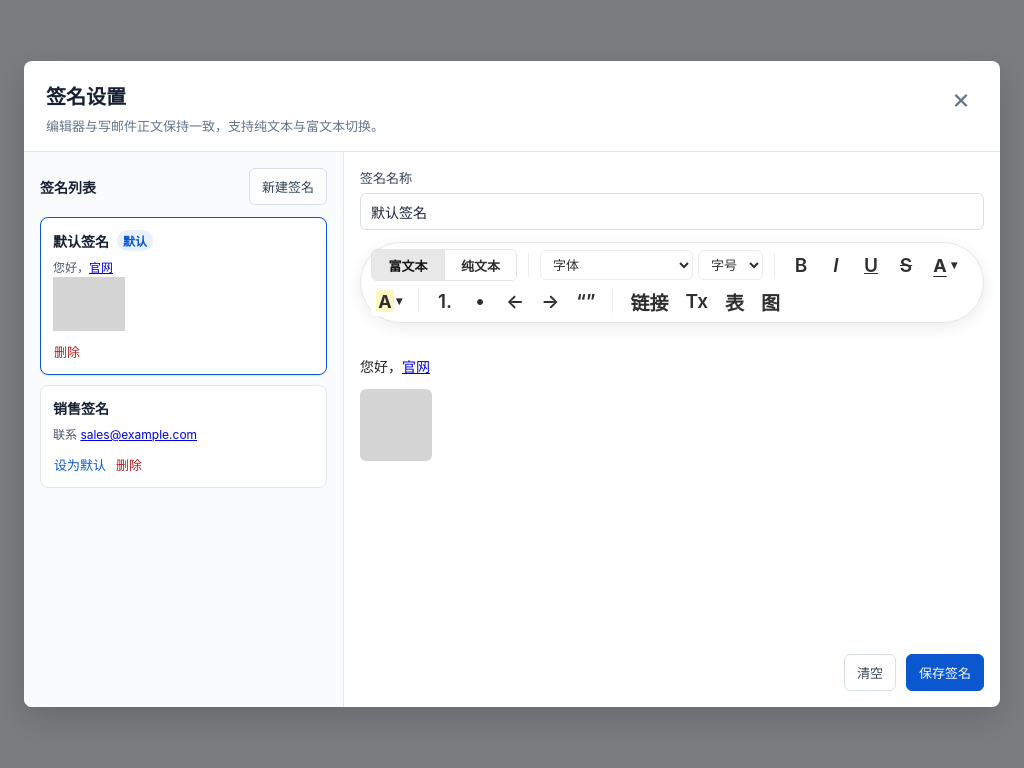
it: SignatureSettings 签名面板 › 可以新建签名并插入链接和图片后保存
Click the button "新建签名" at point(288, 187), box [249,168,327,205]
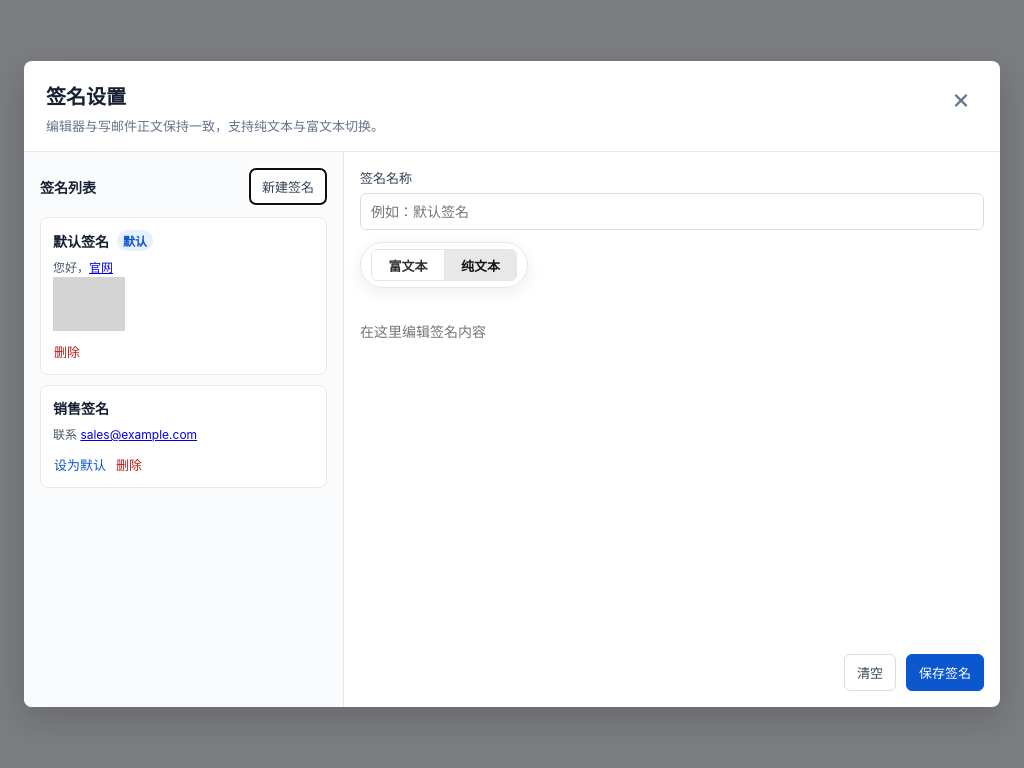
Type "新签名" into the field labelled "签名名称" at point(672, 212), box [360,193,984,230]
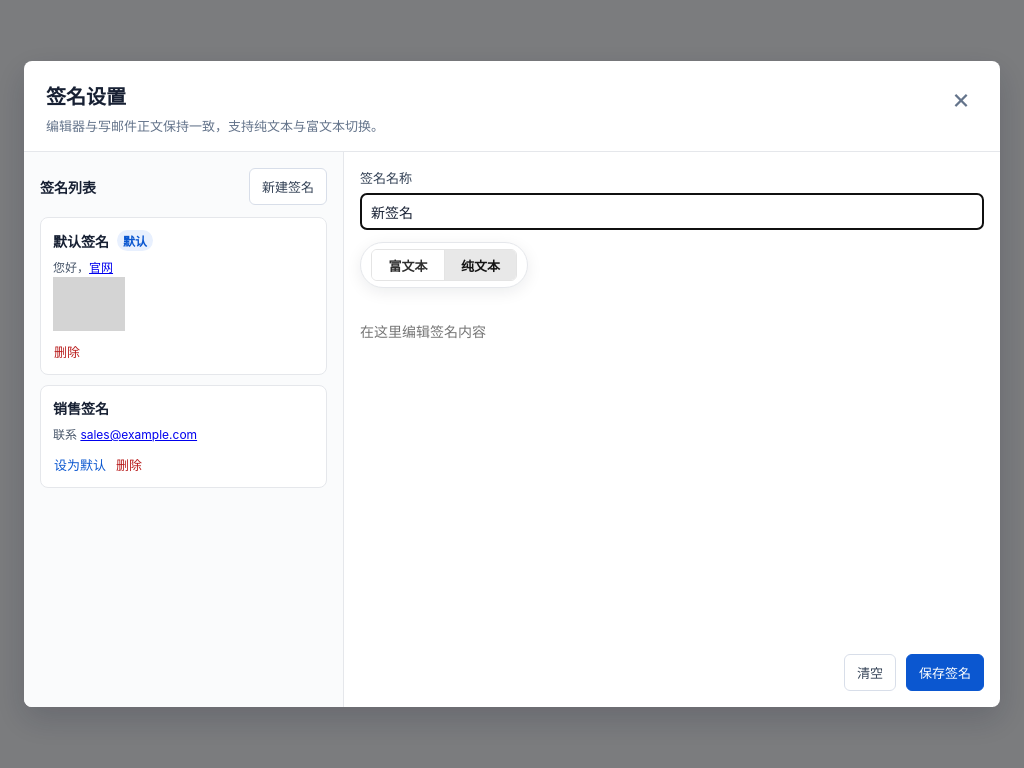
Click the button "富文本" at point(408, 265), box [372,250,444,280]
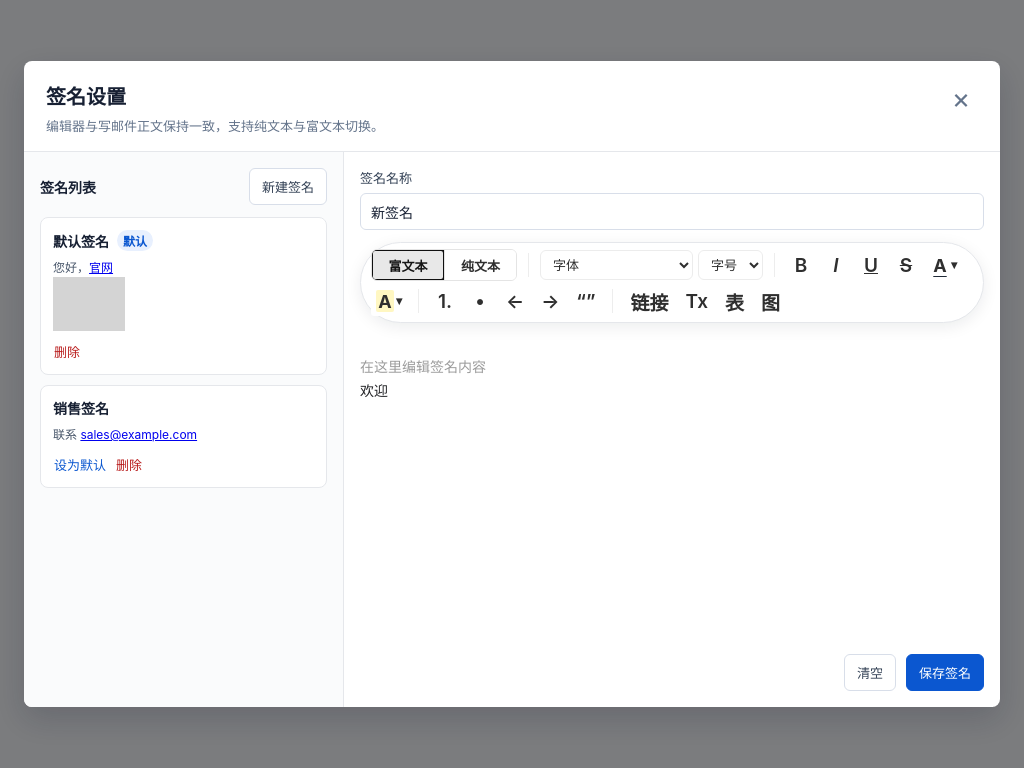
Clear the field named "签名正文" at point(374, 391), box [360,382,388,399]
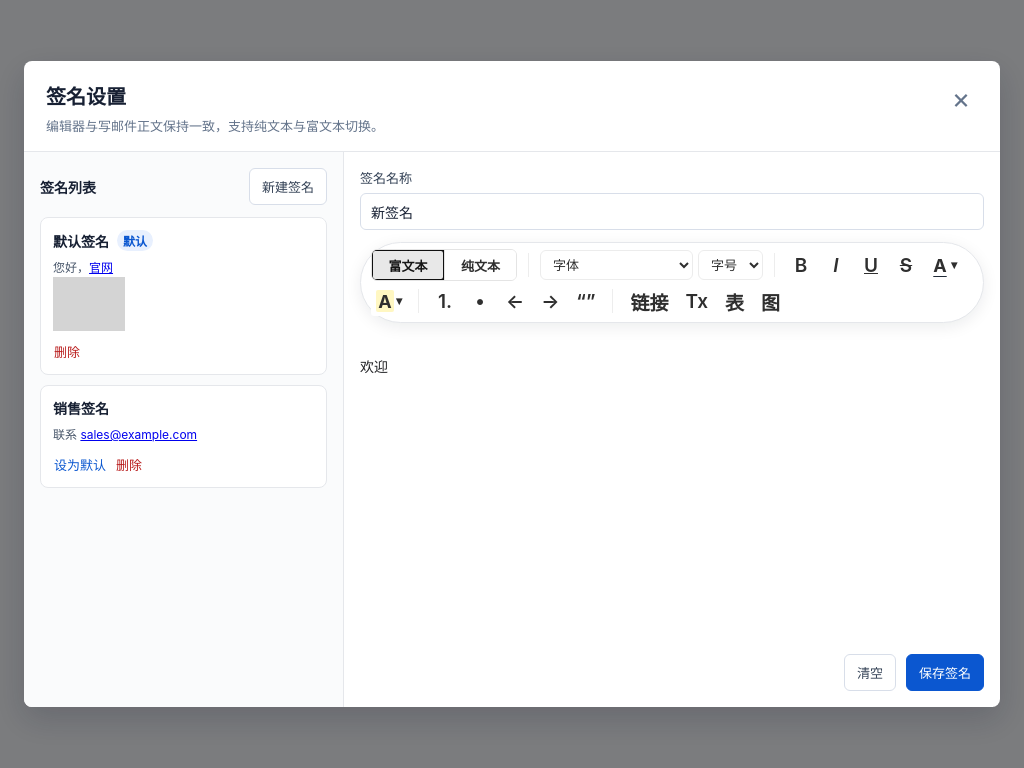
Click the button with aria-label "添加链接" at point(650, 301), box [624,286,674,316]
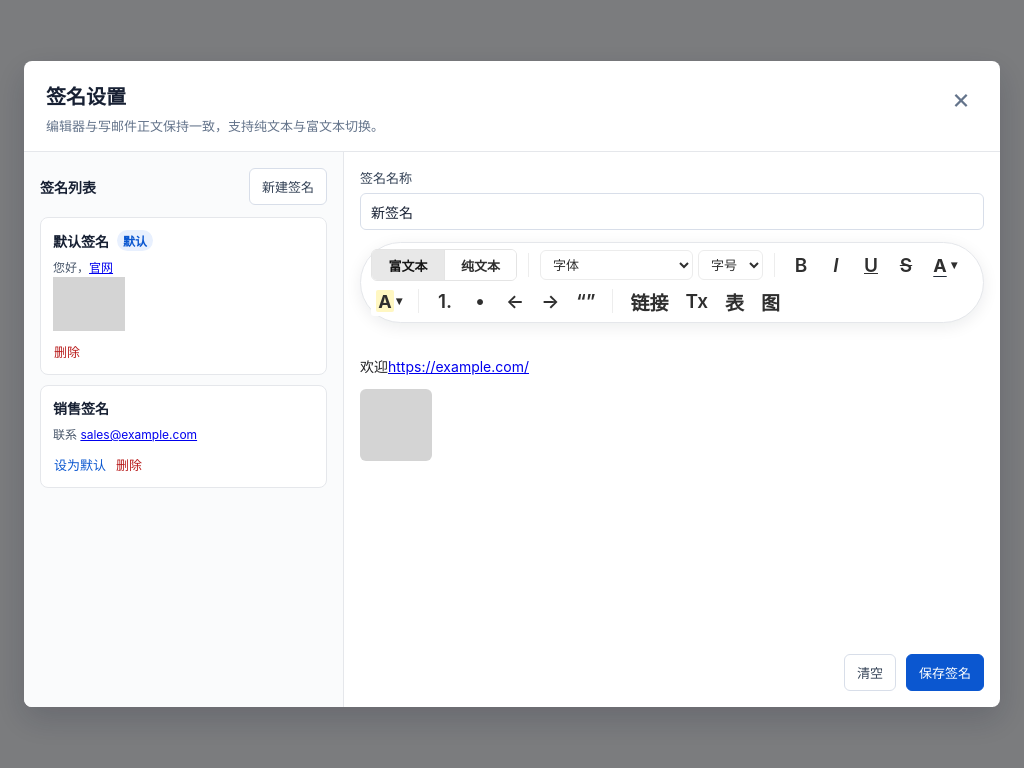
Click the button "保存签名" at point(945, 672), box [906,654,984,690]
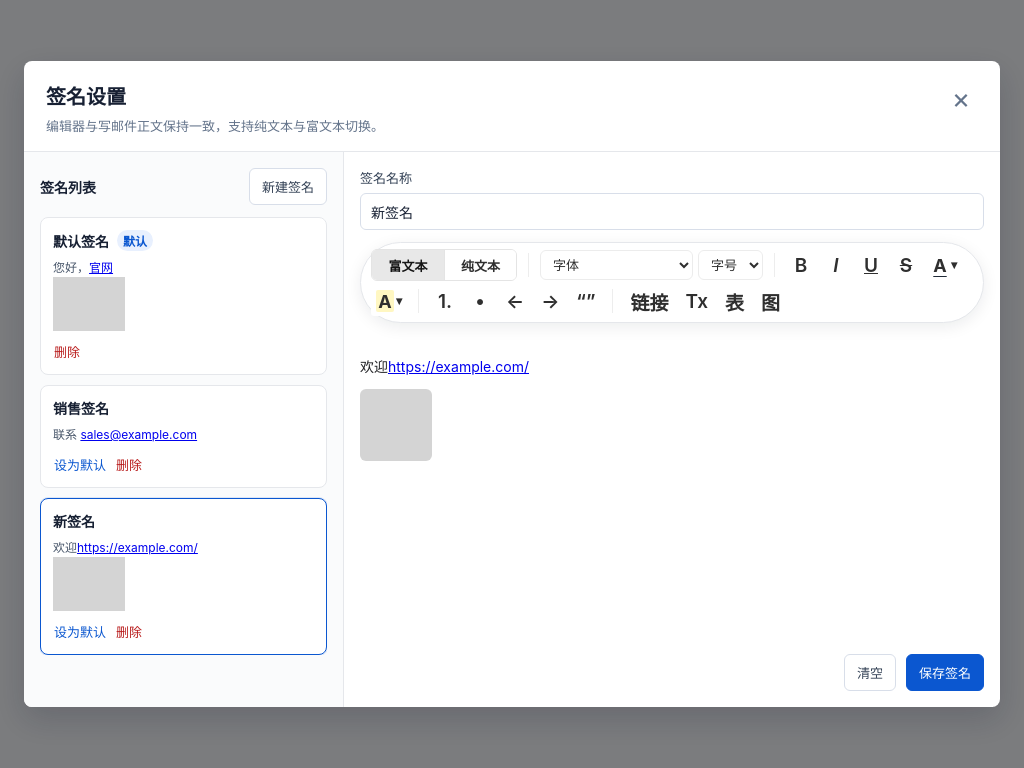
Check: the button with aria-label "编辑 新签名" shows "新签名", box [41,499,326,621]
